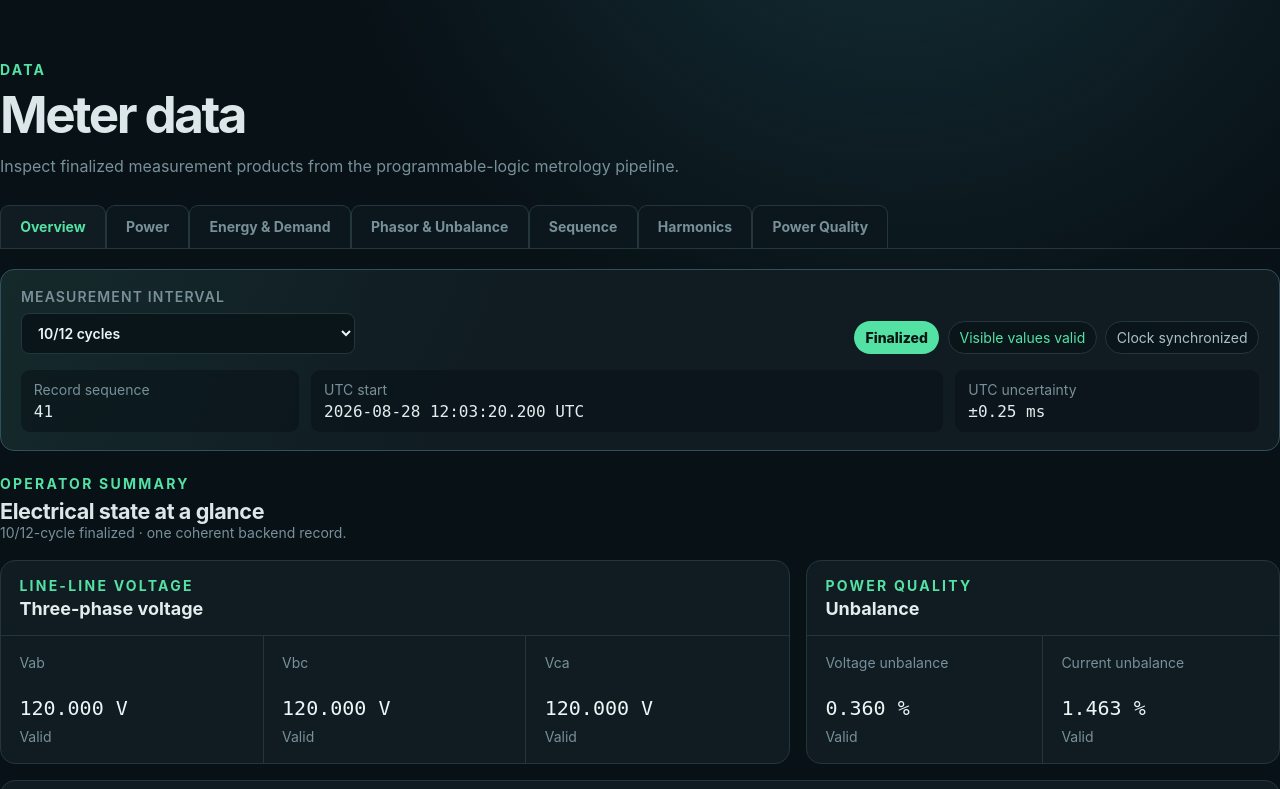
Test: Reading page coherent record behavior › primes, commits, and retains long harmonic families without presenting rejected data as fresh
Click the button "Harmonics": (695, 226) [638, 205, 752, 248]
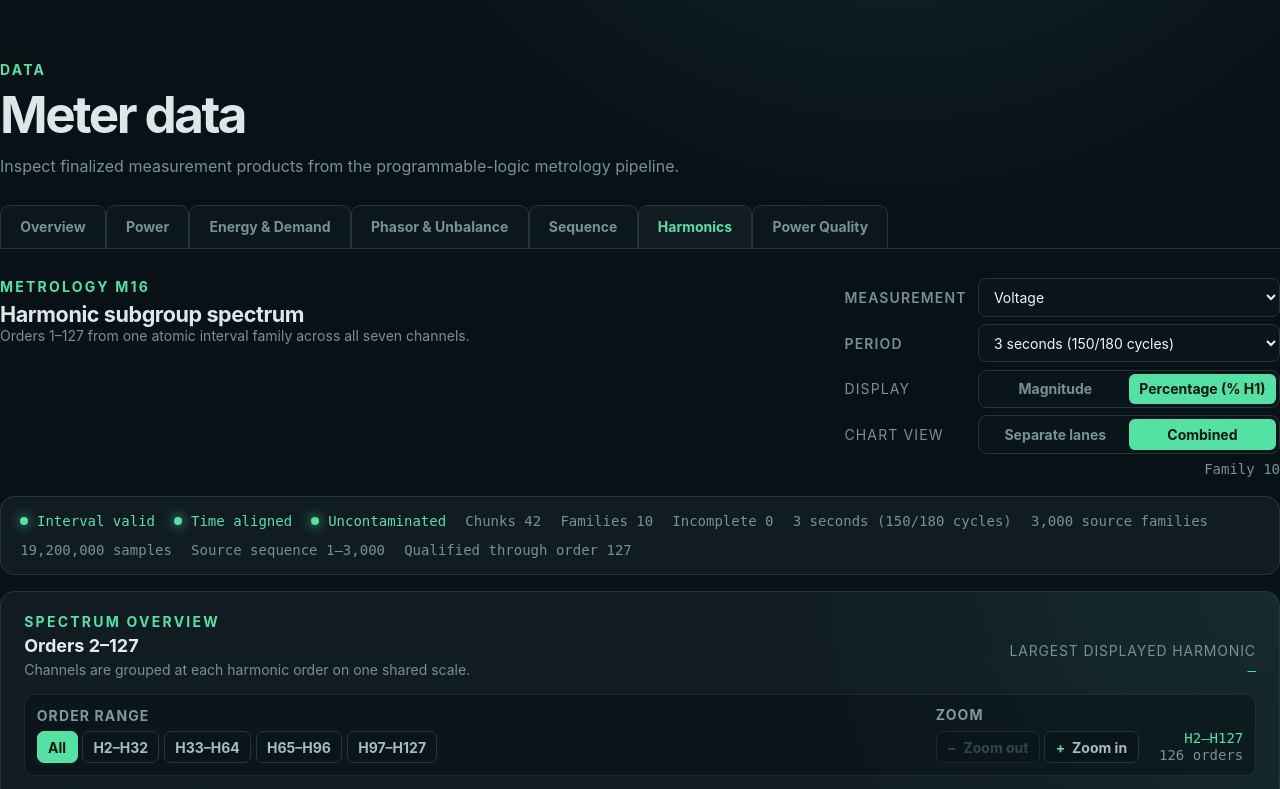
Select "10 minutes" in the dropdown labelled "Period": (1129, 343) [978, 324, 1279, 362]
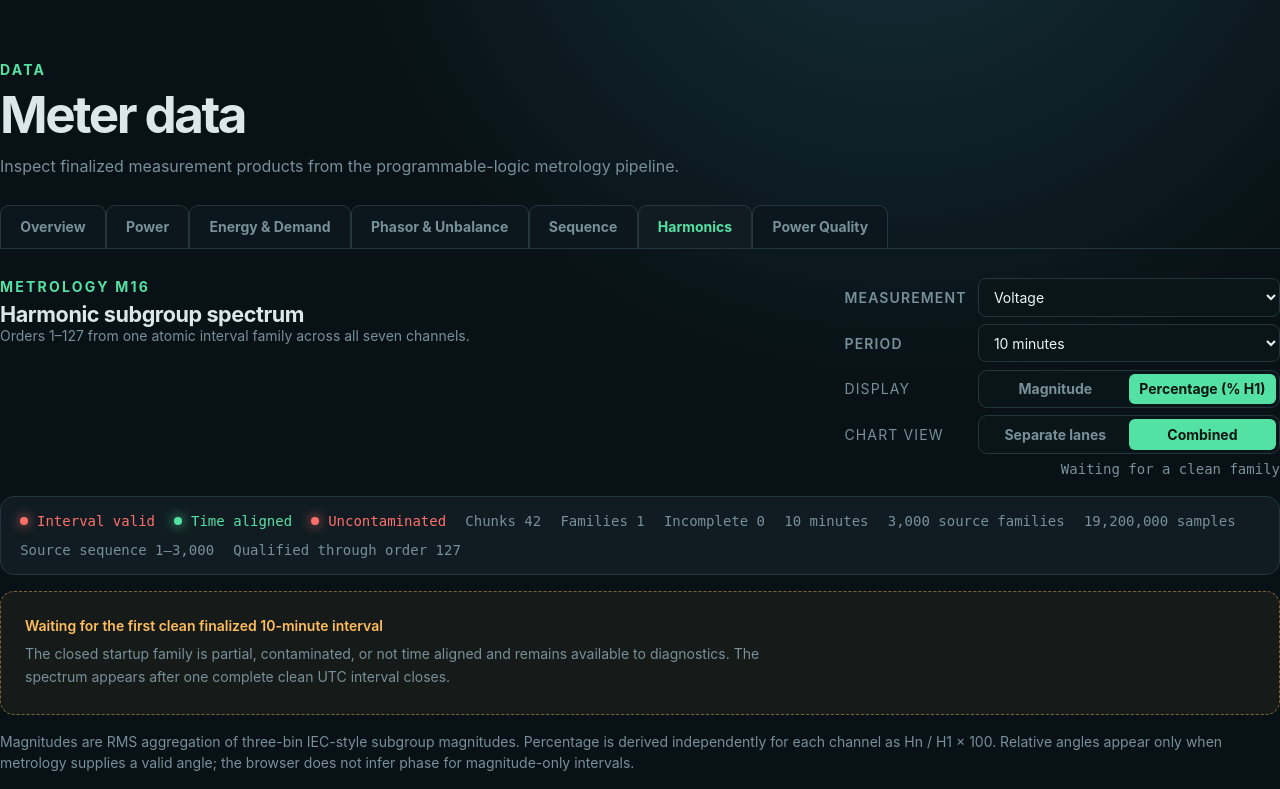
Check: the message shows "Waiting for the first clean finalized 10-minute interval", box [25, 617, 383, 634]
Select "3 seconds (150/180 cycles)" in the dropdown labelled "Period": (1129, 343) [978, 324, 1279, 362]
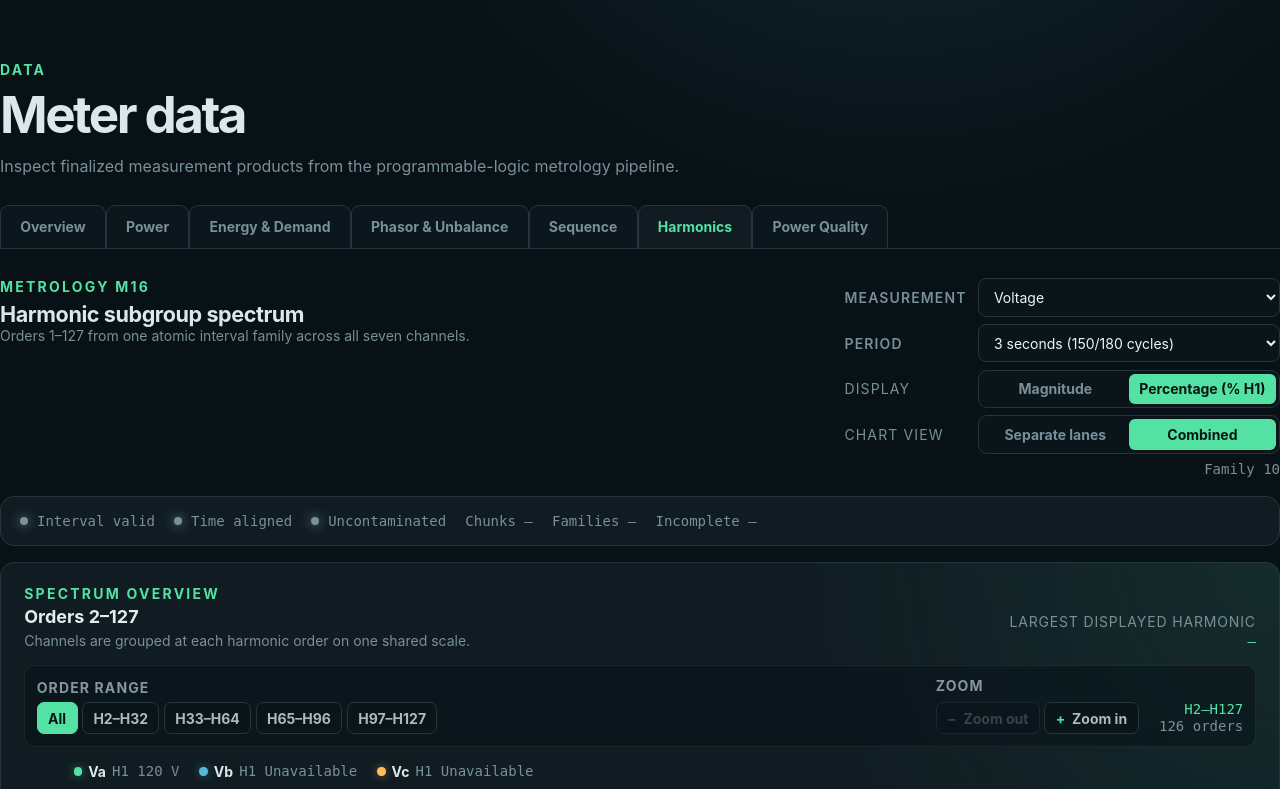
Select "10 minutes" in the dropdown labelled "Period": (1129, 343) [978, 324, 1279, 362]
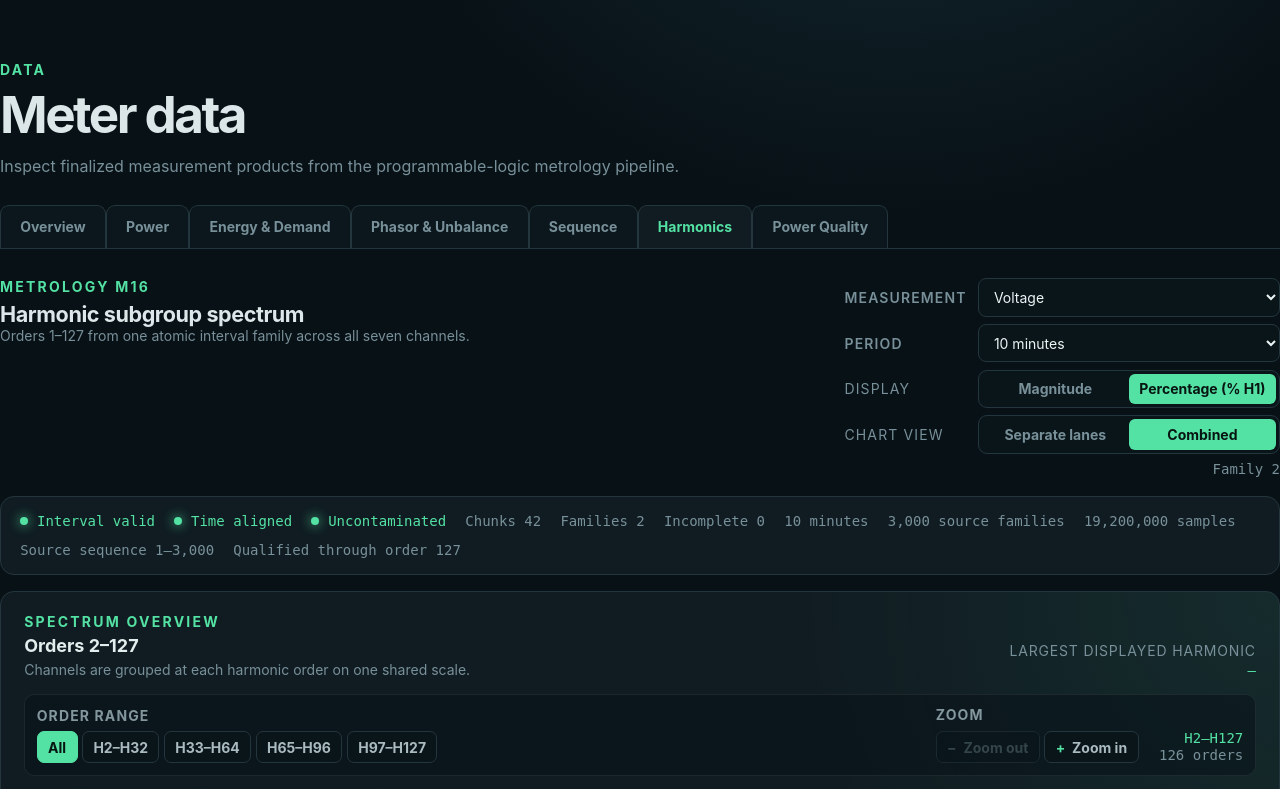
Check: the text "Family 2" is shown, box [1213, 461, 1279, 477]
Select "3 seconds (150/180 cycles)" in the dropdown labelled "Period": (1129, 343) [978, 324, 1279, 362]
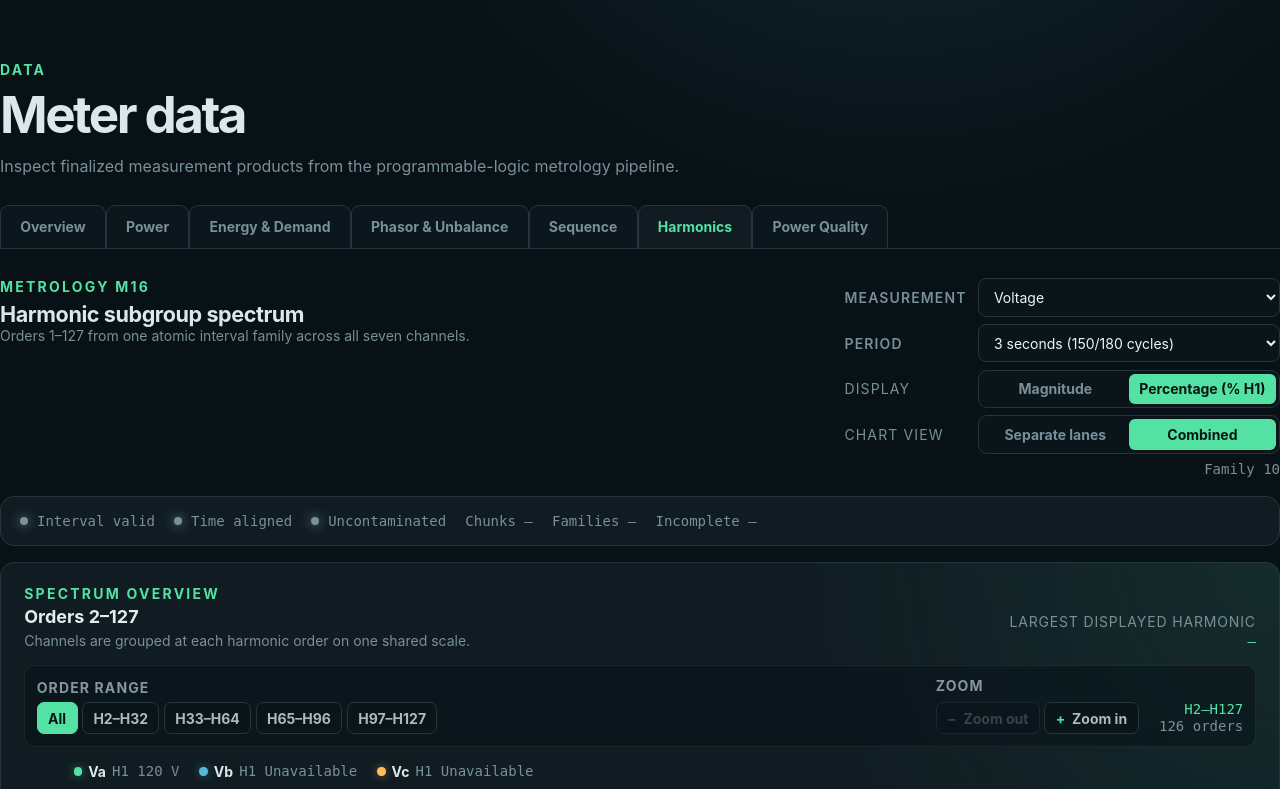
Select "10 minutes" in the dropdown labelled "Period": (1129, 343) [978, 324, 1279, 362]
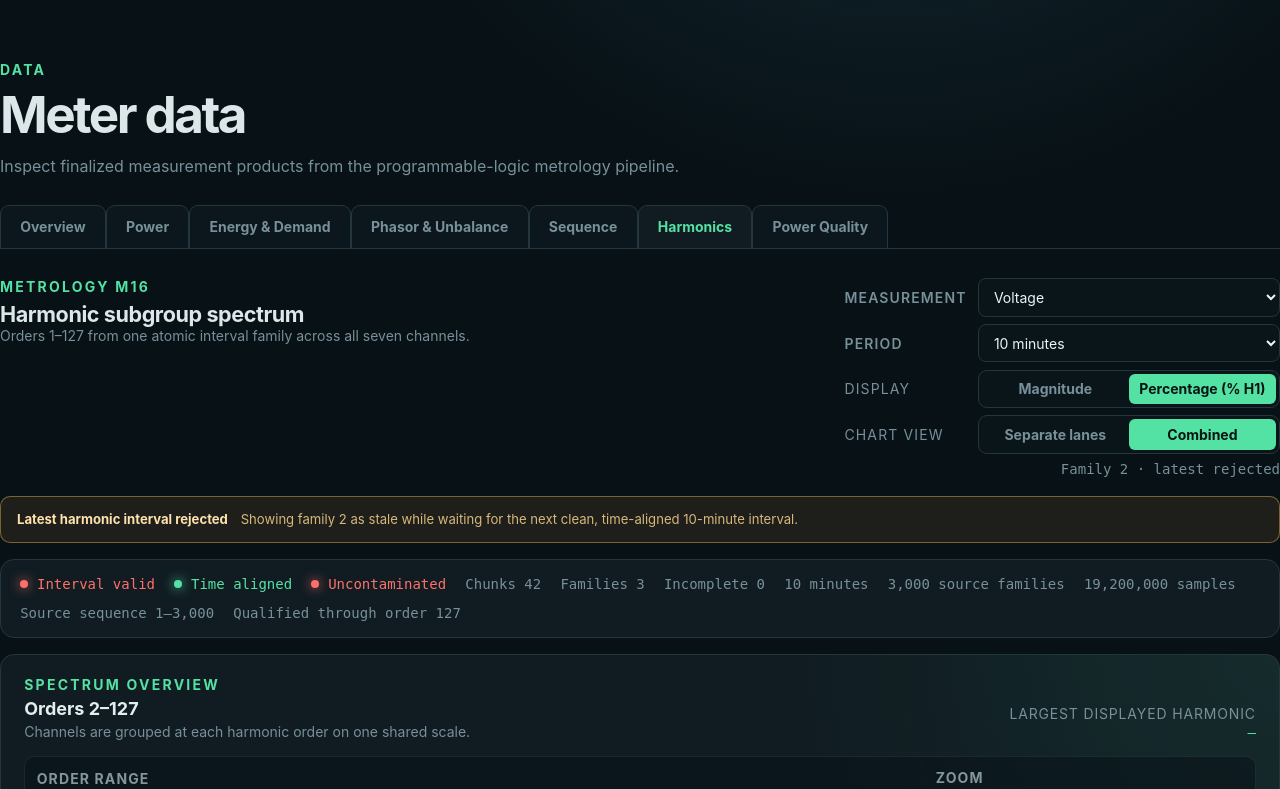
Check: the message shows "Latest harmonic interval rejected", box [17, 511, 228, 527]
Check: the text "Family 2 · latest rejected" is shown, box [1061, 461, 1279, 477]
Check: the message shows "Showing family 2 as stale", box [0, 496, 1279, 543]
